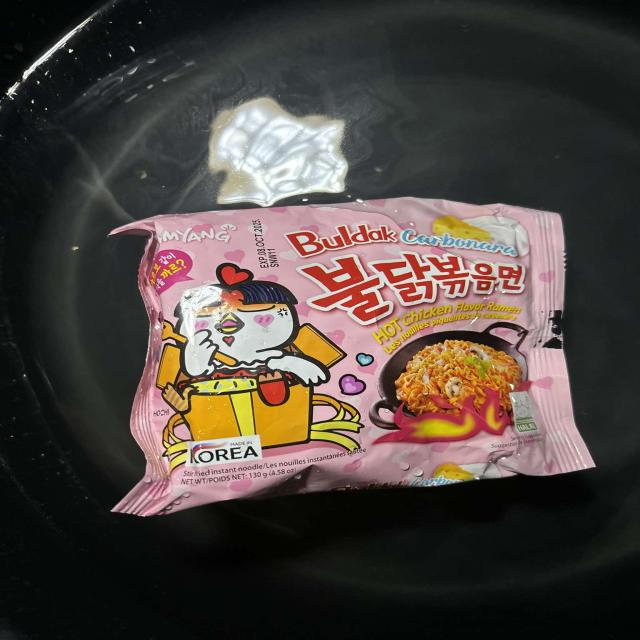Plastic Wrapper: (92, 188, 604, 533)
